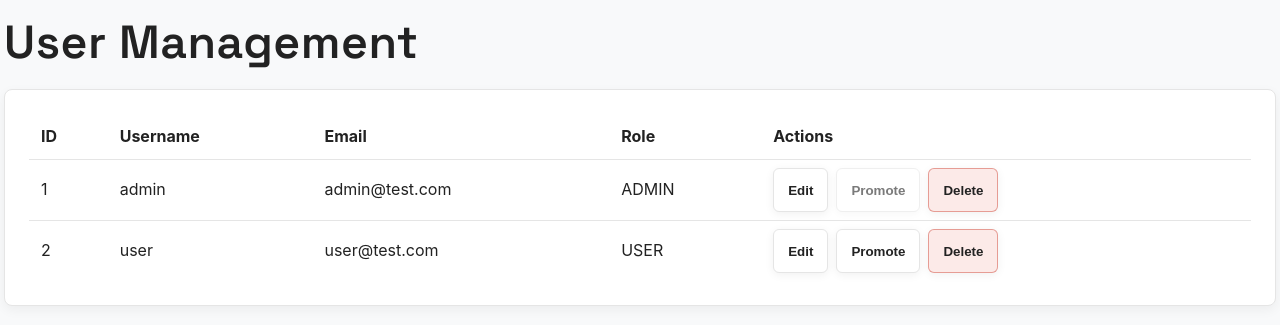
AdminUsers › should allow editing a user
Expected: the text "user@test.com" is shown, [312,220,609,281]
Click the button "Edit" in the row of "user@test.com".
click(801, 251)  # box [773,229,828,273]
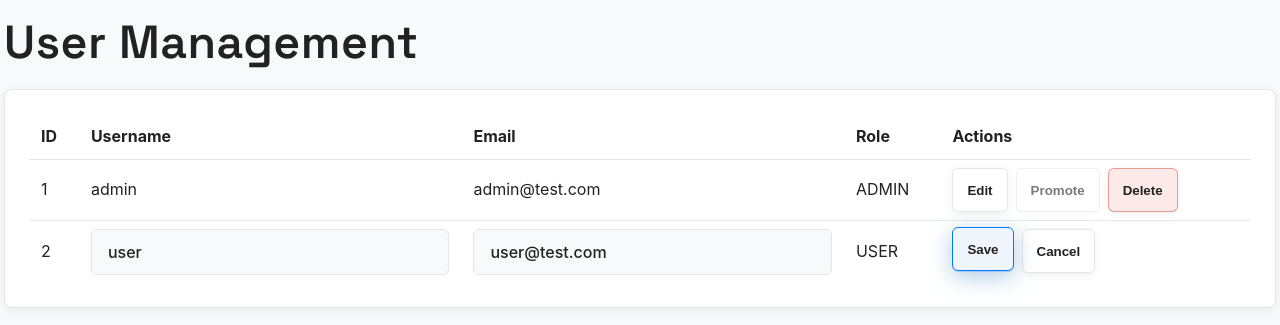
Replace the text in the 1st field showing "user" with "updatedUser" at (270, 252), box [91,229,449,275]
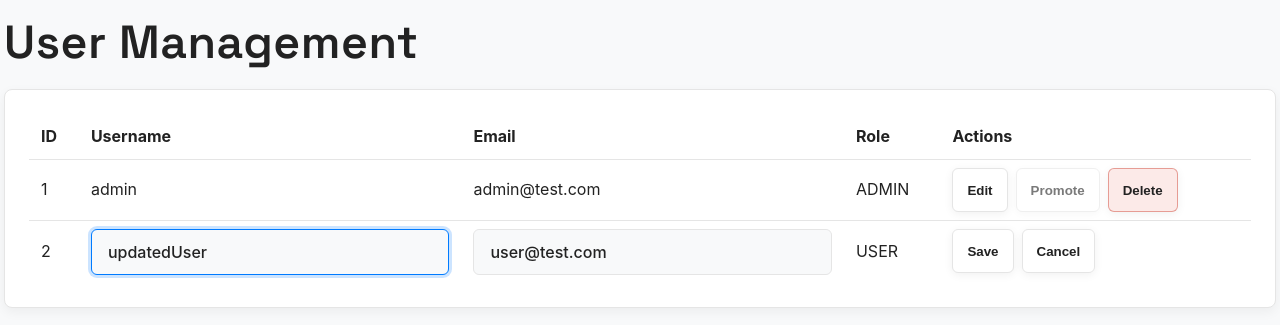
Click the button "Save".
click(983, 251)  # box [952,229,1014,273]
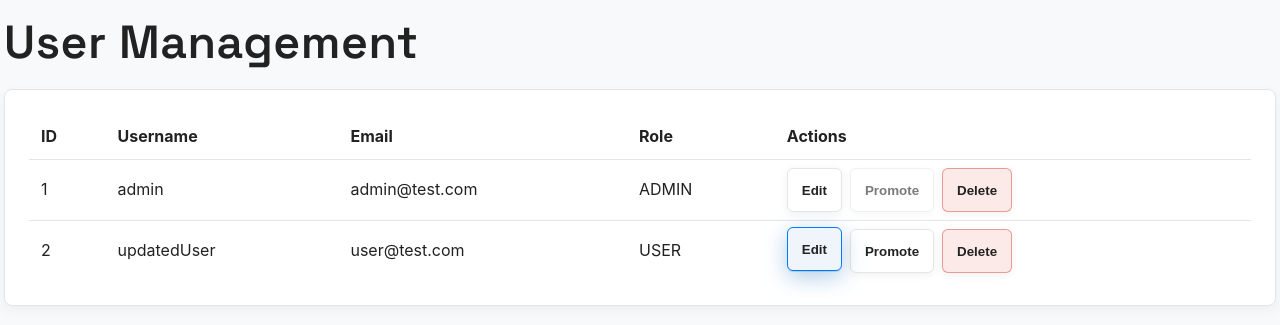
Now the text "updatedUser" is shown, box [106,220,338,281]
